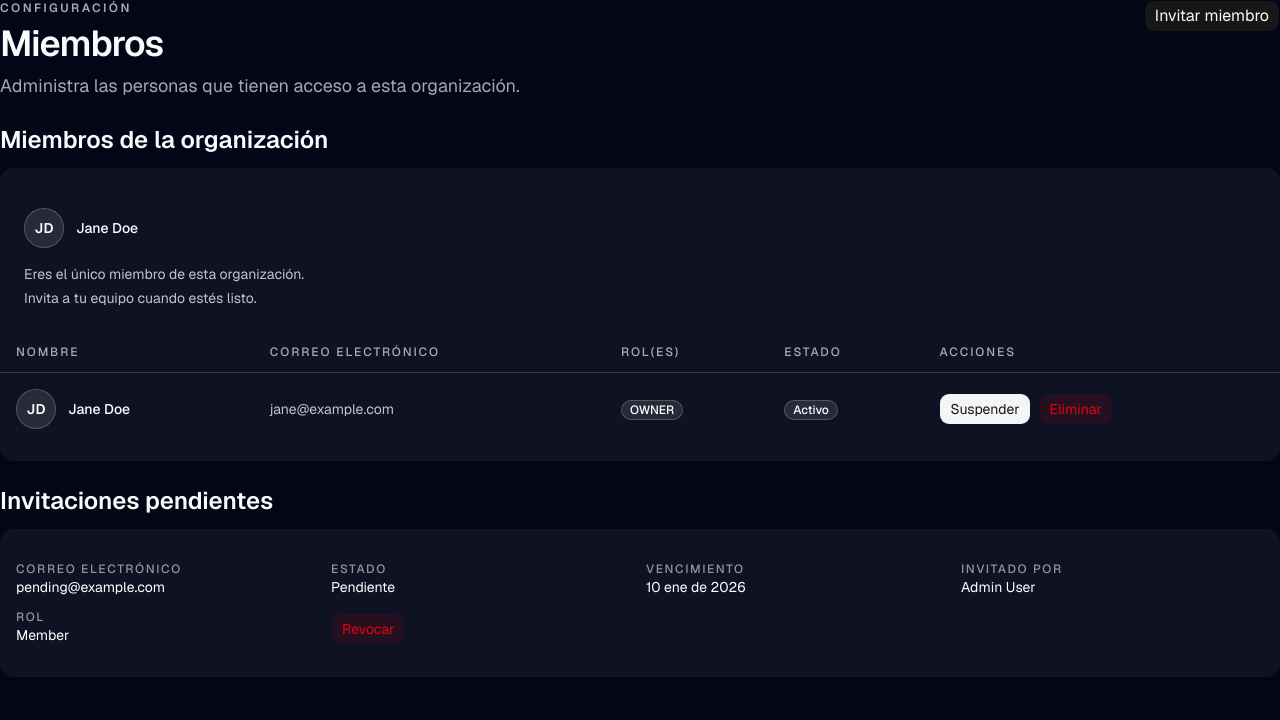
it: MembersPageContent › revokes only pending invitations after confirmation, refetches, and preserves on error
Click the button "Revocar". click: click(368, 629)
box: [331,613,405,645]
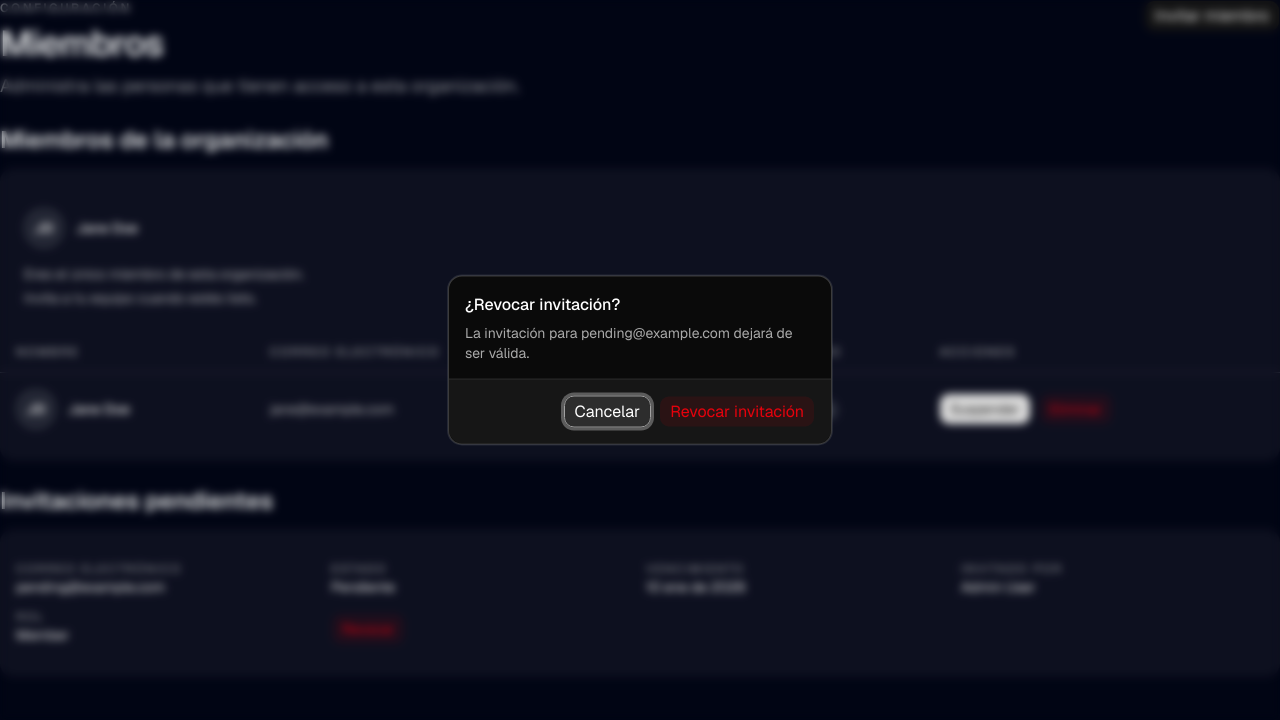
Now the text "¿Revocar invitación?" is shown, box [465,292,620,316]
Click the button "Cancelar". click: click(607, 412)
box: [564,396,651,428]
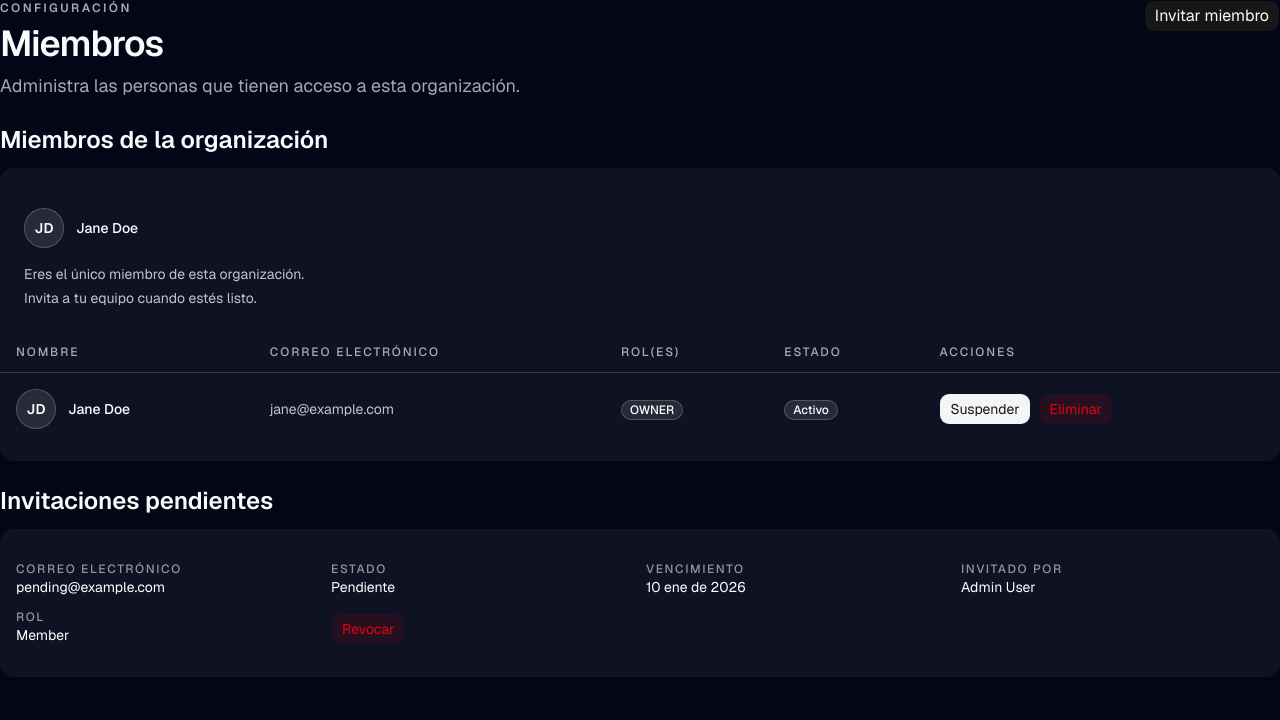
Click the button "Revocar". click: click(368, 629)
box: [331,613,405,645]
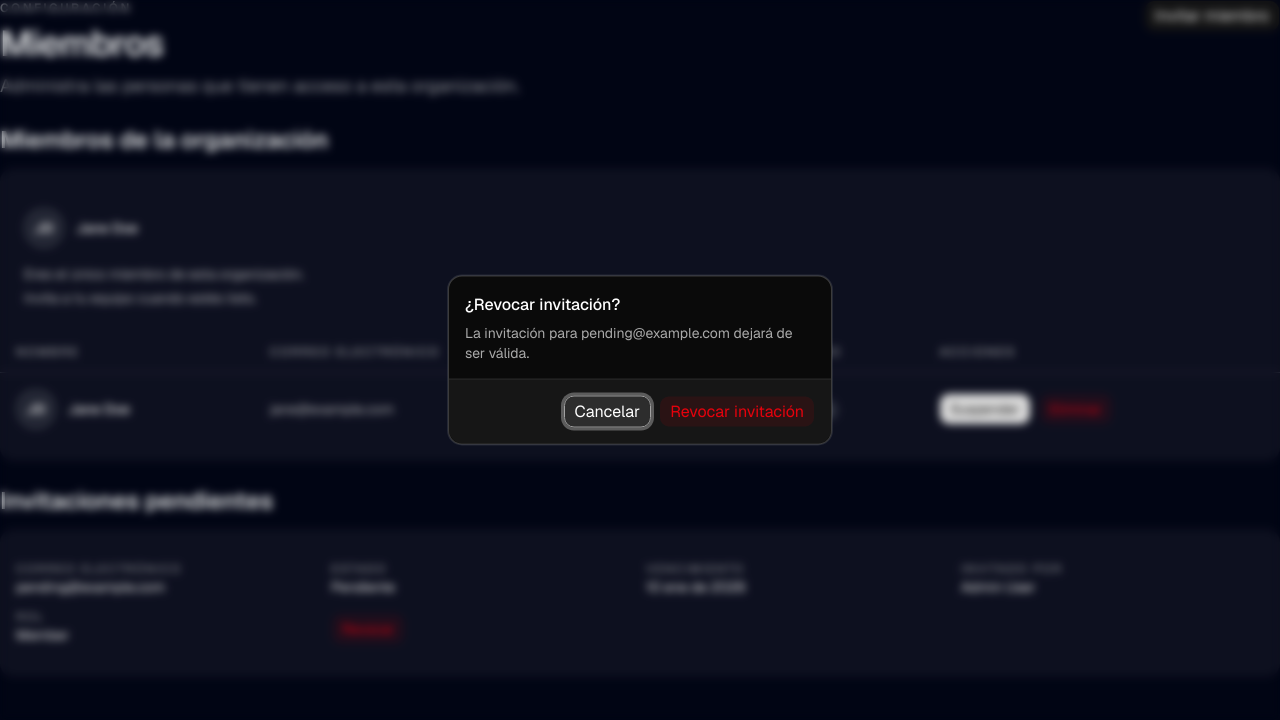
Expected: the text "pending@example.com" is shown, [16,578,165,596]
Click the button "Revocar invitación". click: click(737, 412)
box: [659,396,815,428]
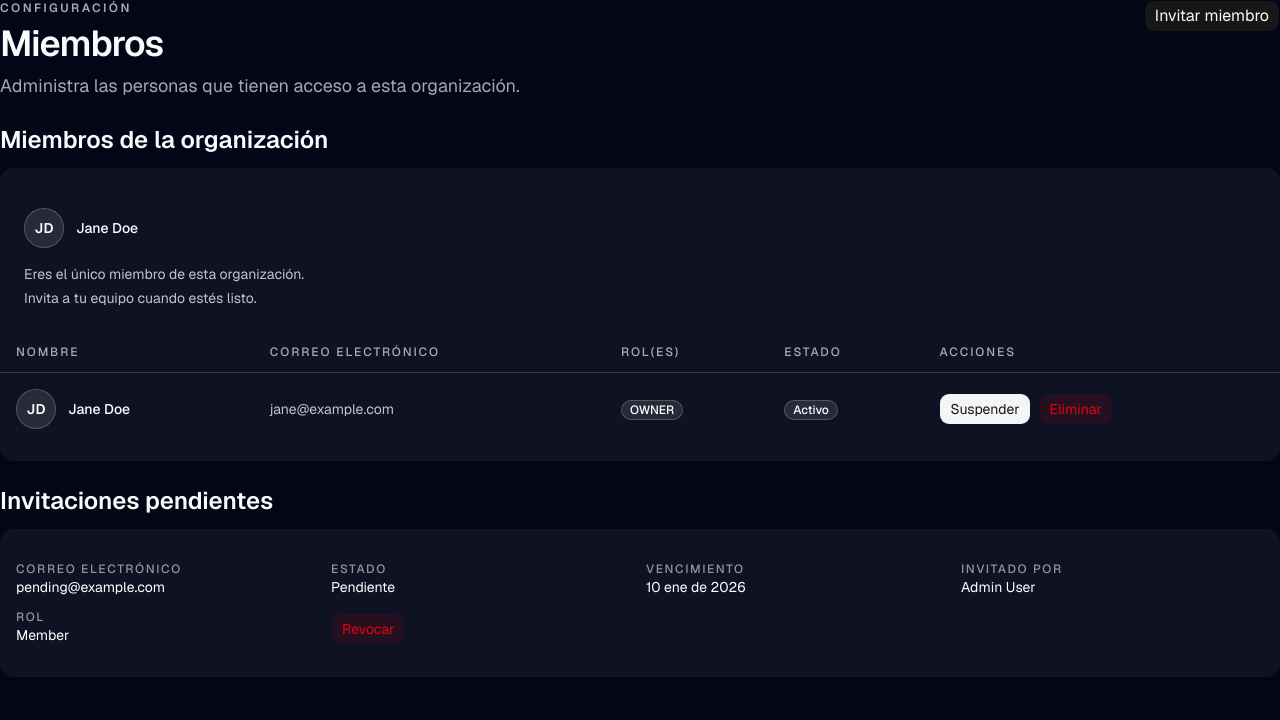
Click the button "Revocar". click: click(368, 629)
box: [331,613,405,645]
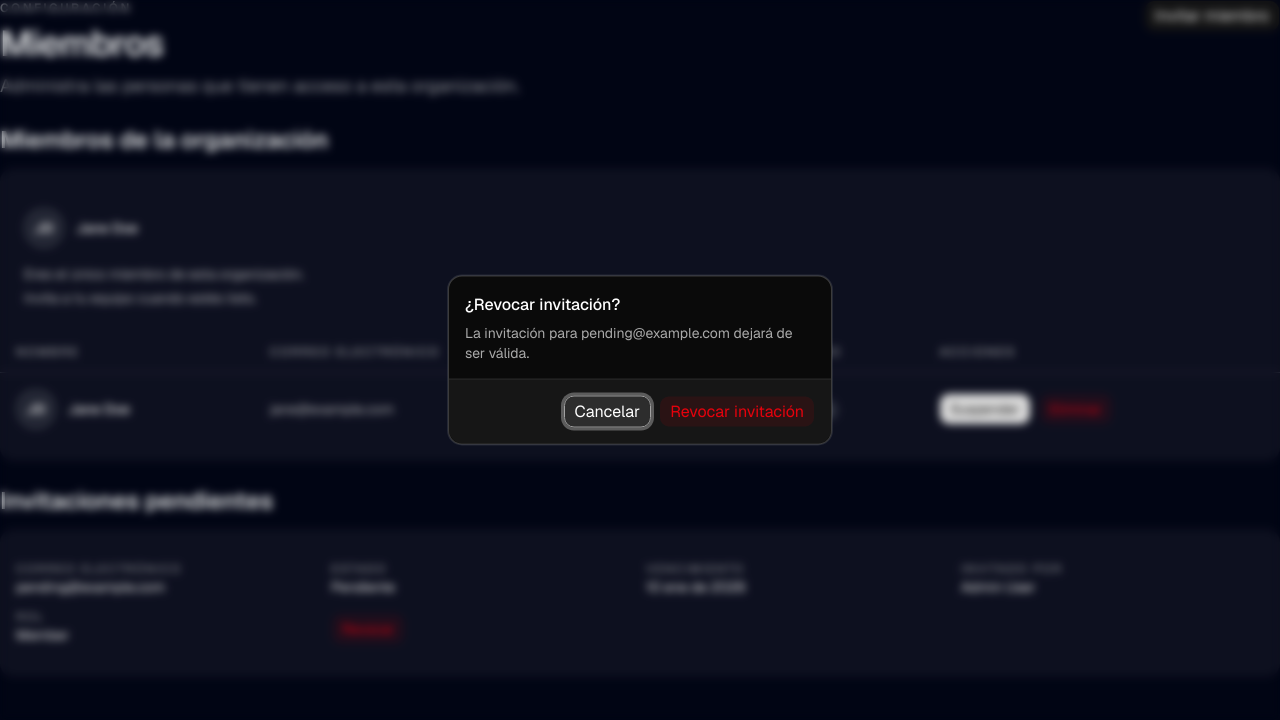
Click the button "Revocar invitación". click: click(737, 412)
box: [659,396,815,428]
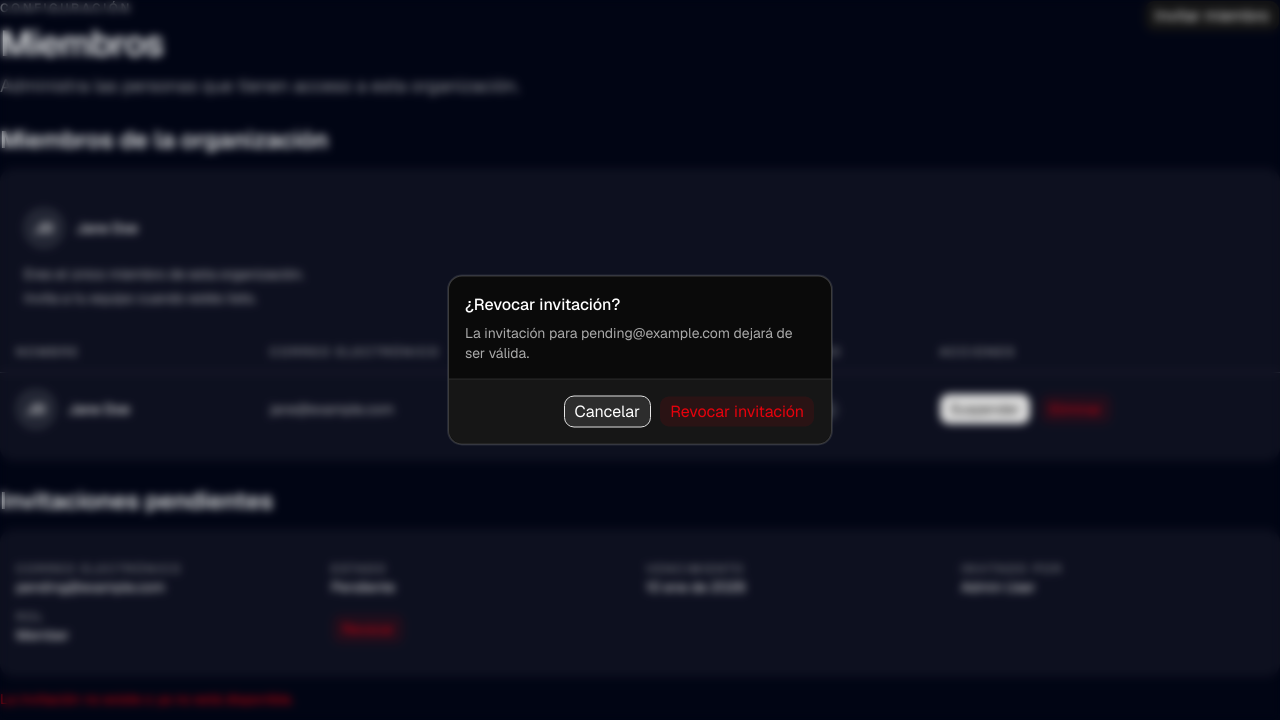
Expected: the text "pending@example.com" is shown, [16,578,165,596]
Now the text "La invitación no existe o ya no está disponible." is shown, box [0,690,294,708]
